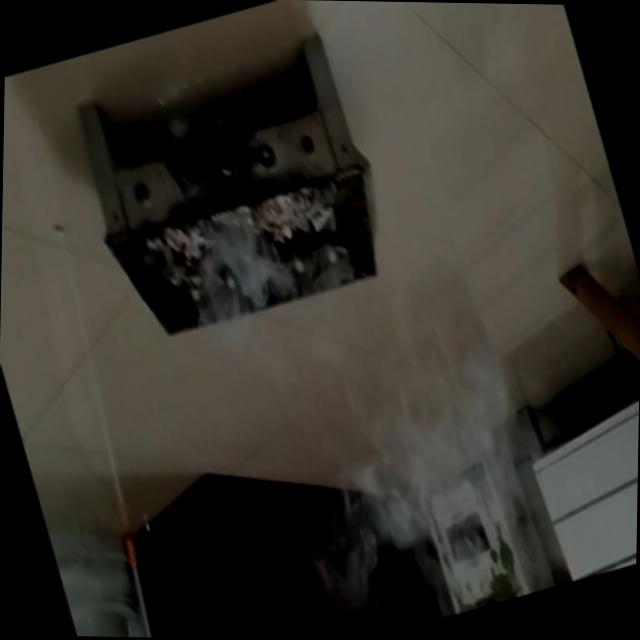smoke: (302, 304, 493, 547)
